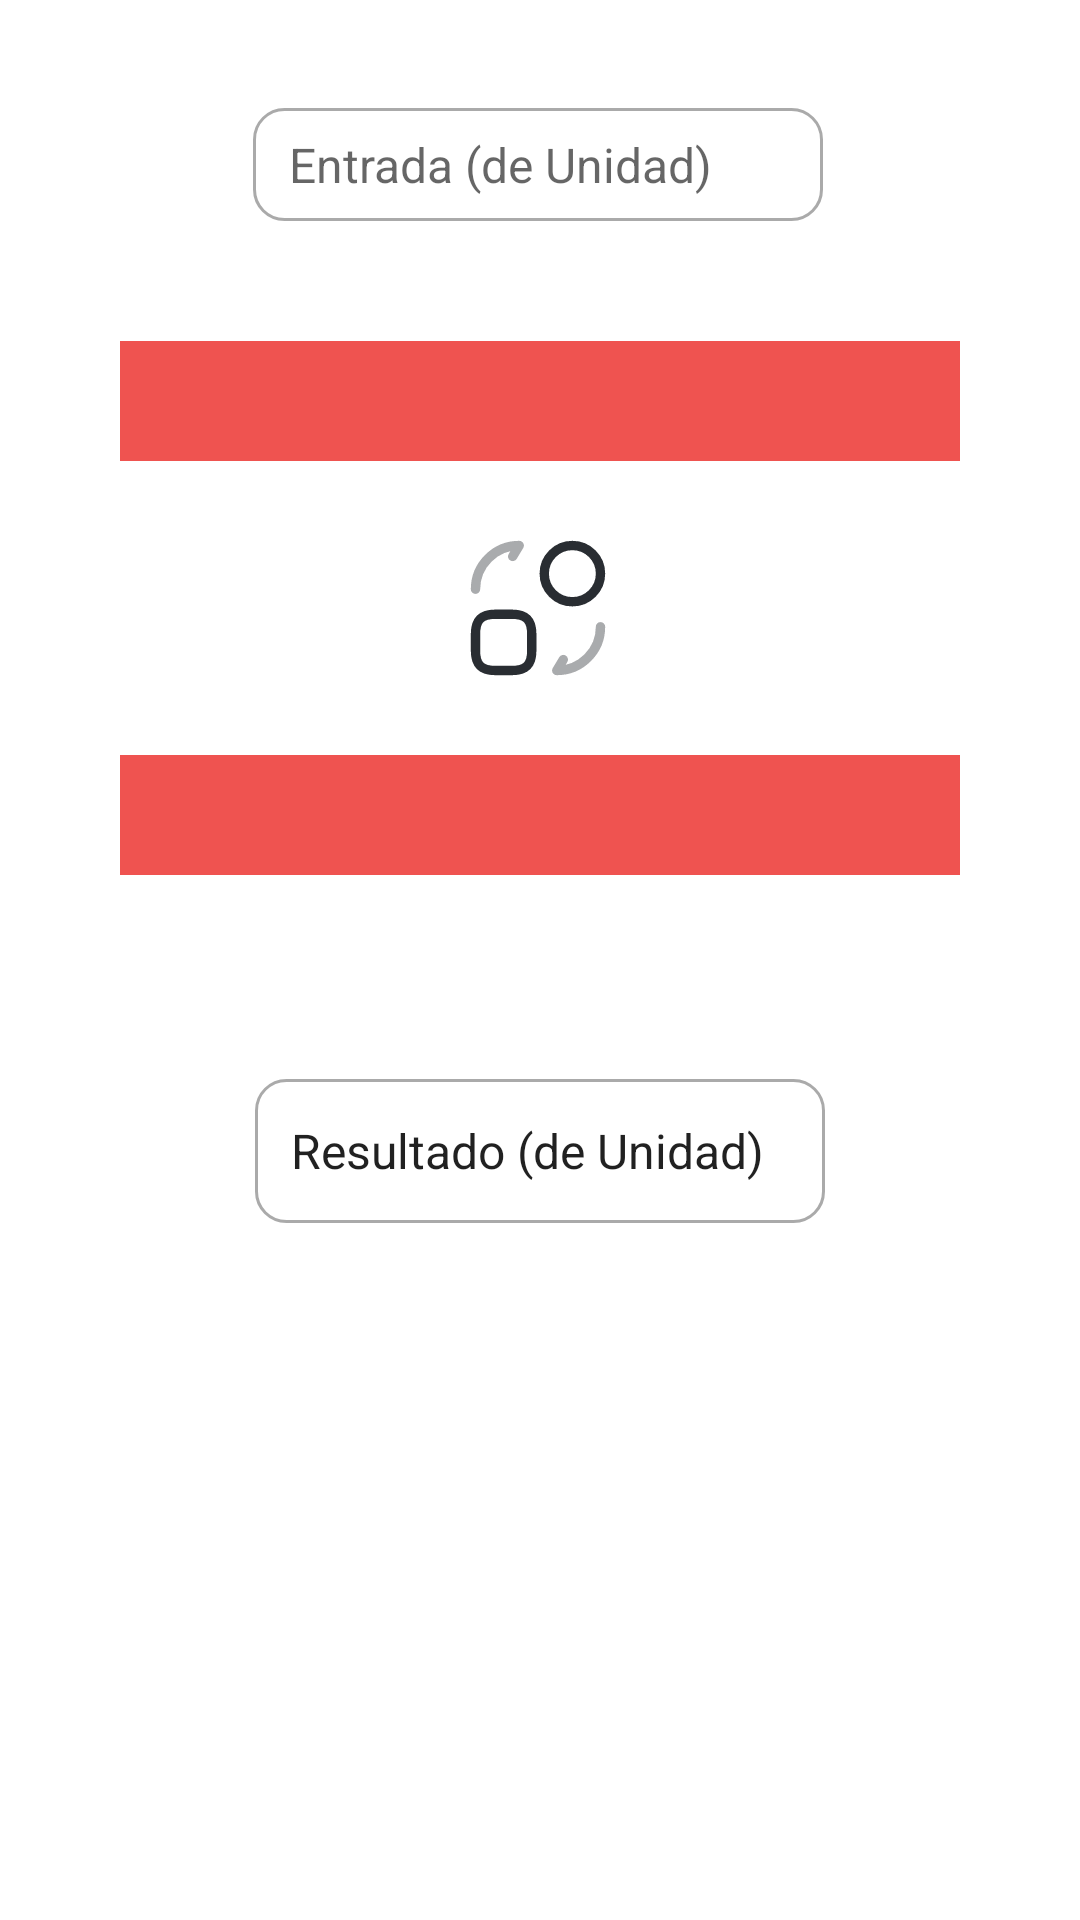

Screen size 1080*1920. Icon name, then its box in pixels as rect(x1, y1, x2, y2):
converter: rect(470, 540, 606, 676)
